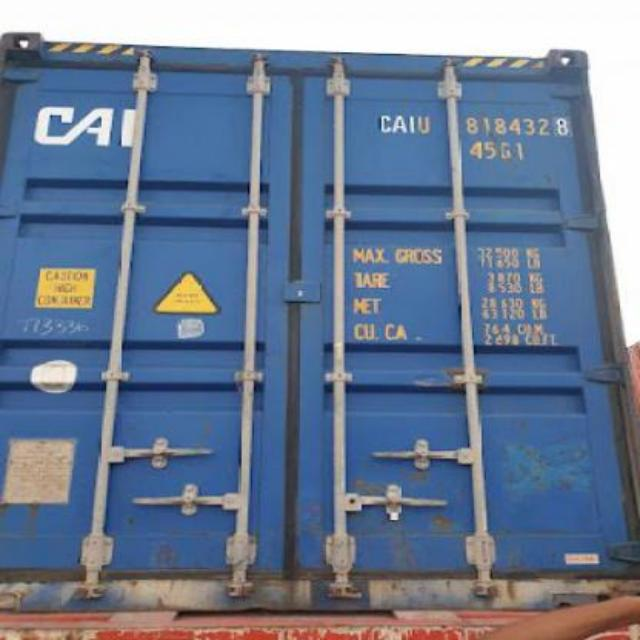1: (482, 115, 494, 135)
2: (536, 115, 554, 136)
3: (524, 115, 536, 136)
4: (506, 115, 524, 136)
8: (464, 115, 480, 135), (554, 117, 570, 135), (494, 115, 506, 136)
A: (392, 112, 406, 136)
C: (376, 112, 394, 136)
I: (406, 112, 418, 136)
U: (416, 112, 432, 134)
